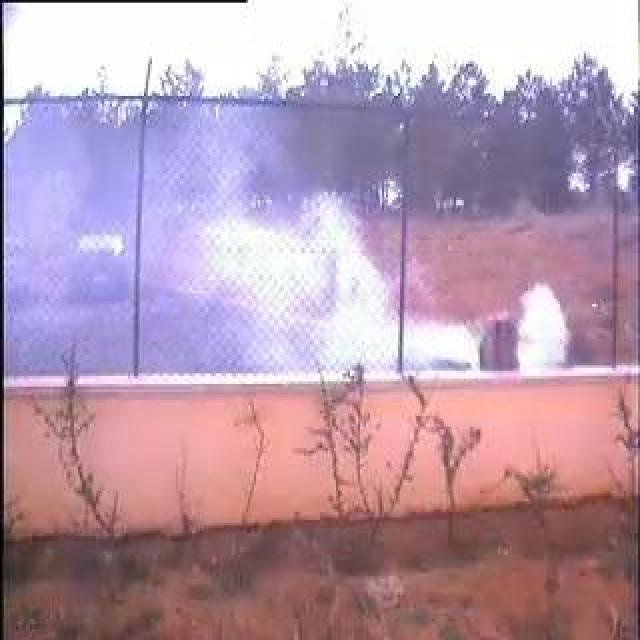Smoke: (175, 181, 583, 368)
